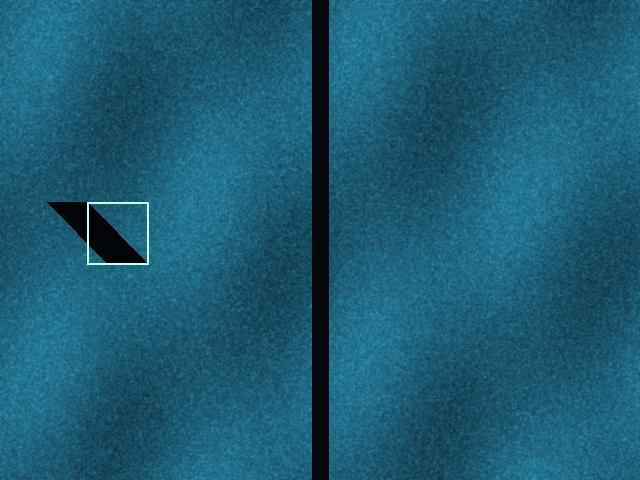Plastic Debris: (87, 202, 148, 264)
